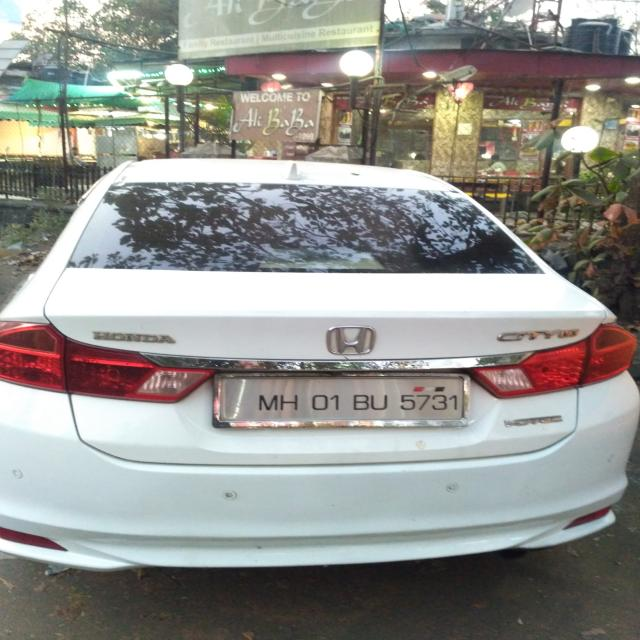Number-Plate: (220, 374, 470, 422)
